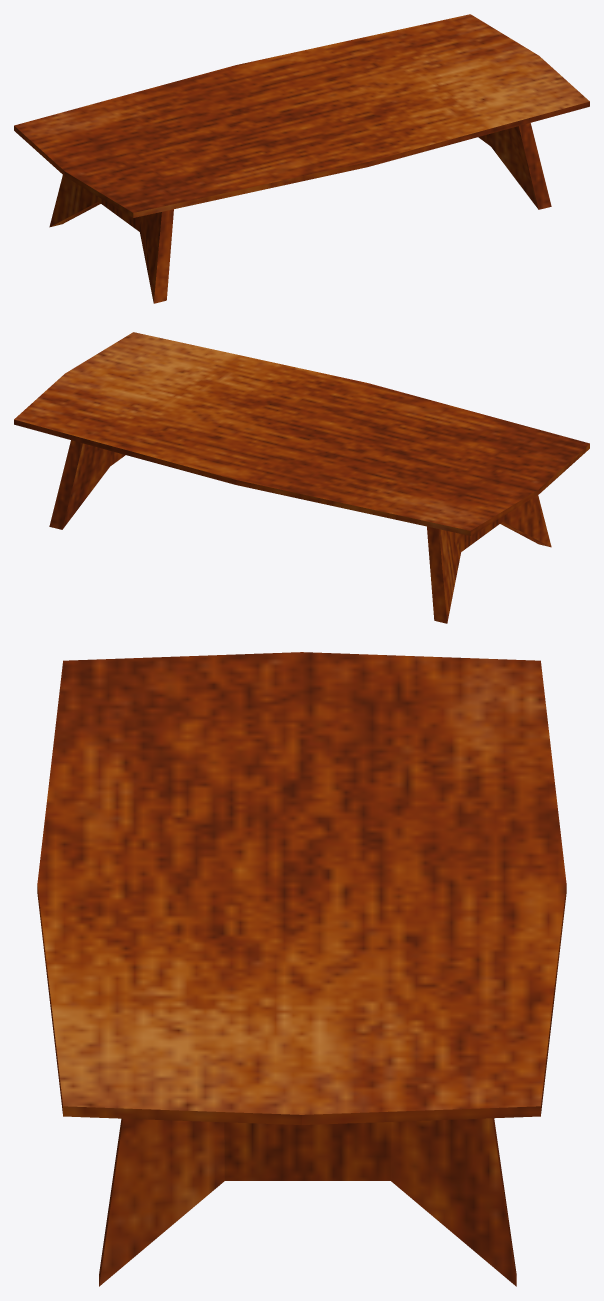
Rendered from conference_desk_squared_alt.fbx.
The picture shows the model from 3 angles, top to bottom: view 1: azimuth 30°, elevation 25°; view 2: azimuth 150°, elevation 25°; view 3: azimuth 270°, elevation 25°; orthographic projection. The views are drawn at different scales.
Parts seen in each view (by area): view 1: conference_desk_squared_alt; view 2: conference_desk_squared_alt; view 3: conference_desk_squared_alt.
Part boxes in pixels (<box>): conference_desk_squared_alt: <box>14,14,589,303</box>; conference_desk_squared_alt: <box>14,332,589,623</box>; conference_desk_squared_alt: <box>37,652,566,1286</box>.
Bounding box in the file's own units: 417 × 87.97 × 202.
